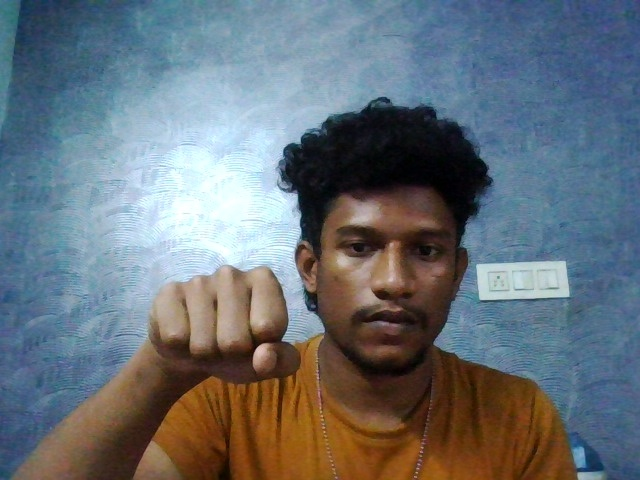yes: (120, 249, 314, 413)
